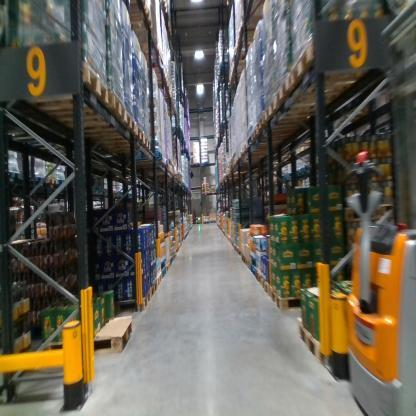pallets: (26, 65, 156, 159), (267, 36, 365, 147), (132, 237, 187, 316), (295, 318, 349, 384), (249, 263, 304, 313), (241, 107, 278, 166)
